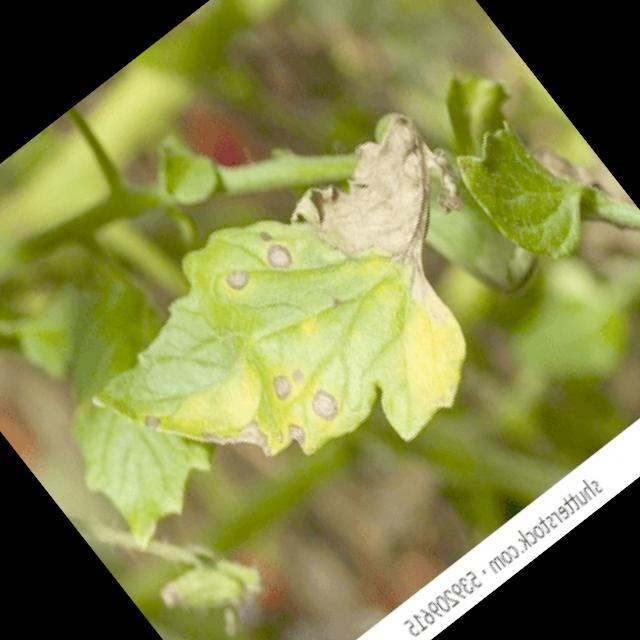Tomato late blight leaf: (51, 90, 565, 582)
